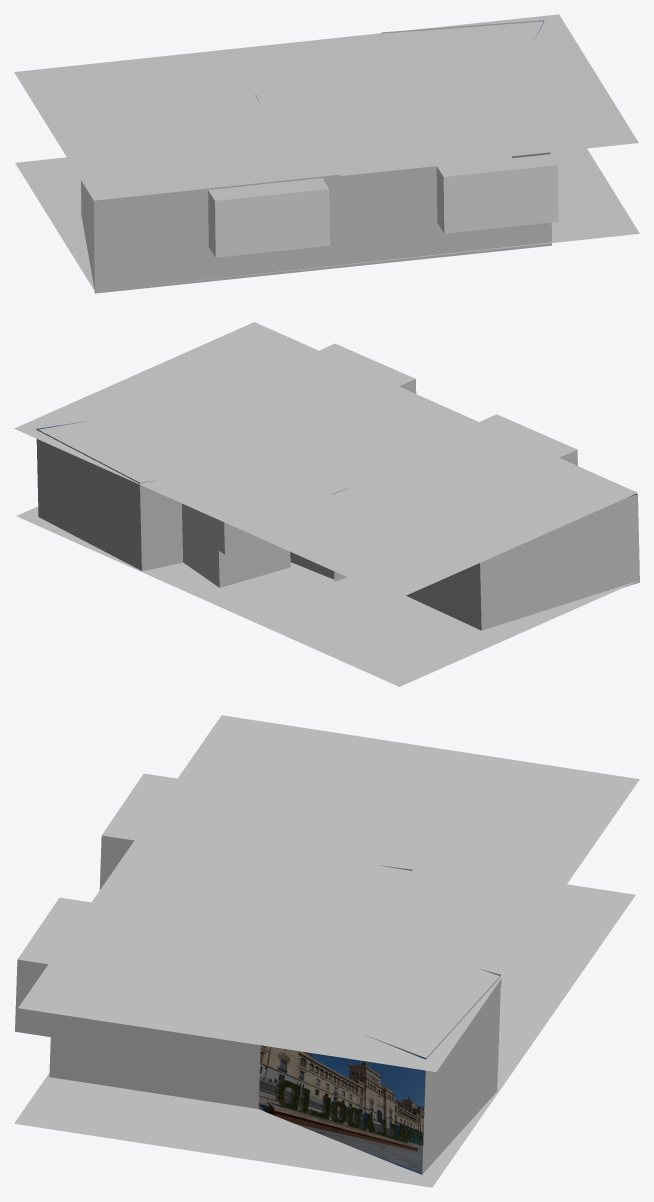
Rendered from oficina_004.fbx.
3 renders of one model, top to bottom at view 1: azimuth 30°, elevation 25°; view 2: azimuth 150°, elevation 25°; view 3: azimuth 270°, elevation 25°, orthographic. The views are drawn at different scales.
Parts seen in each view (by area): view 1: Oficina-Techo, Oficina, Oficina Suelo; view 2: Oficina-Techo, Oficina, Oficina Suelo; view 3: Oficina-Techo, Oficina, Oficina Suelo.
Part boxes in pixels (<box>): Oficina-Techo: <box>14,14,638,200</box>; Oficina: <box>81,20,558,293</box>; Oficina Suelo: <box>15,148,639,290</box>; Oficina-Techo: <box>14,322,637,599</box>; Oficina: <box>36,343,639,630</box>; Oficina Suelo: <box>16,506,637,686</box>; Oficina-Techo: <box>18,715,639,1071</box>; Oficina: <box>15,773,503,1174</box>; Oficina Suelo: <box>14,884,635,1187</box>.
Bounding box in the file's own units: 1320 × 231 × 1007.
